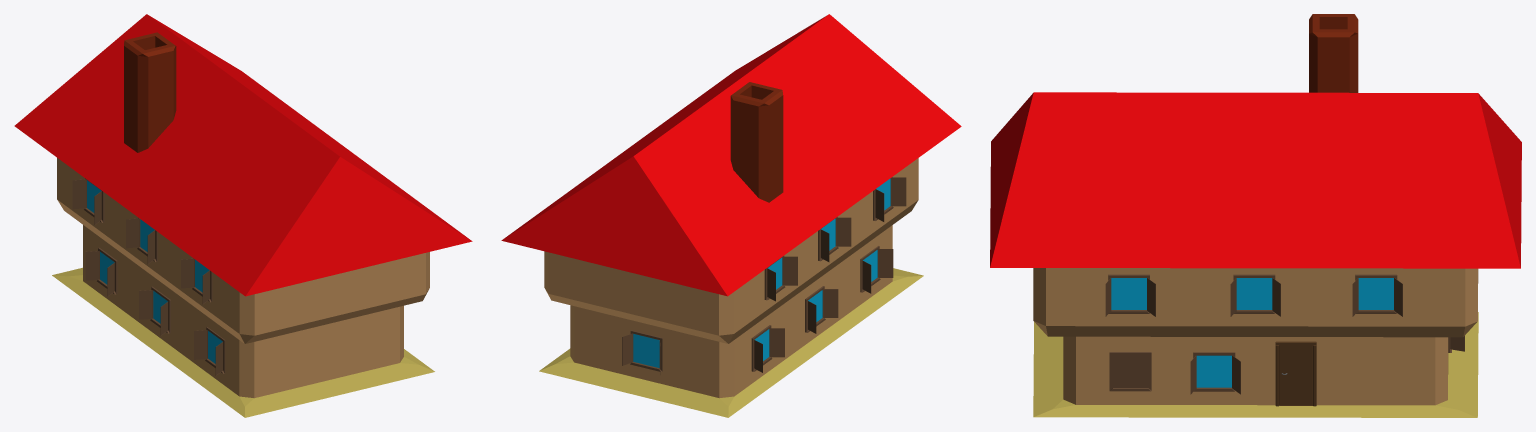
The model's file is Game Modele_Haus.fbx.
3 renders of one model, left to right at view 1: azimuth 30°, elevation 25°; view 2: azimuth 150°, elevation 25°; view 3: azimuth 270°, elevation 25°, orthographic. The views are drawn at different scales.
Visible parts, largest first — view 1: Wirtshaus; view 2: Wirtshaus; view 3: Wirtshaus.
Boxes of the visible parts, bbox=[...] form: Wirtshaus: bbox=[14, 14, 472, 417]; Wirtshaus: bbox=[501, 14, 961, 417]; Wirtshaus: bbox=[990, 14, 1521, 417].
Size of the model in its own units: 375 by 424 by 663.
